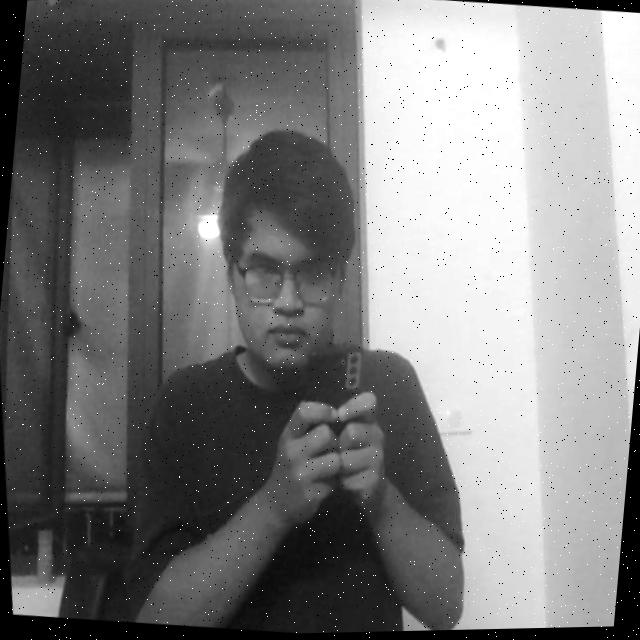phone: (282, 332, 386, 487)
